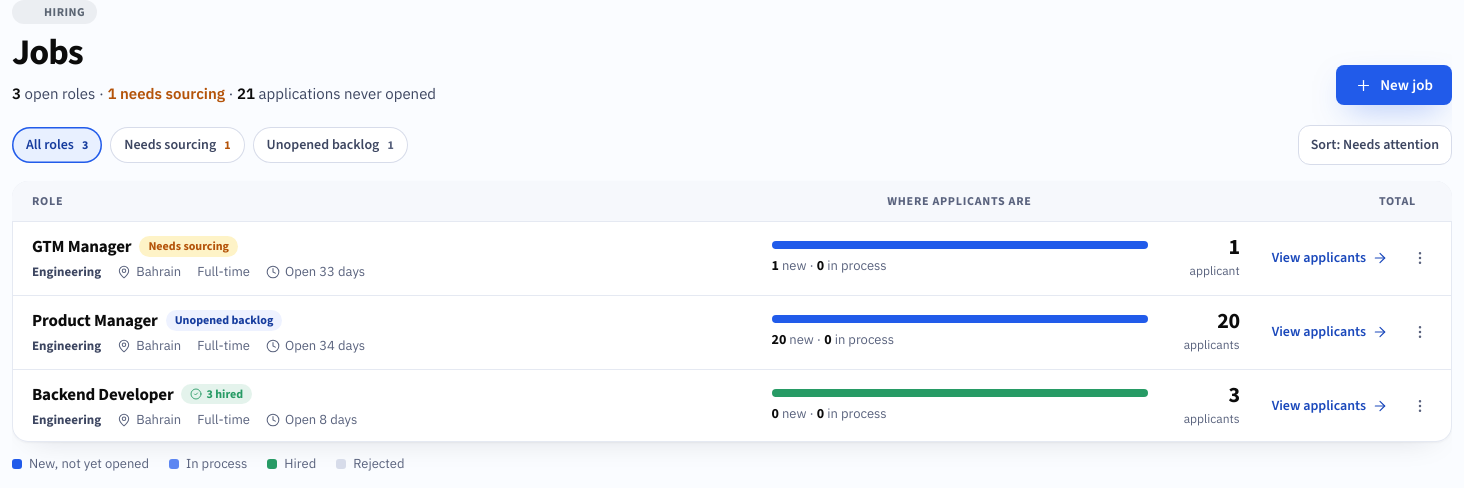
Test: JobsView › narrows to exactly what a filter chip counted
What coordinates should you click on to do the following:
click the button "Needs sourcing 1"
I would click on:
 (177, 145)
Its box is [110,127,245,163].
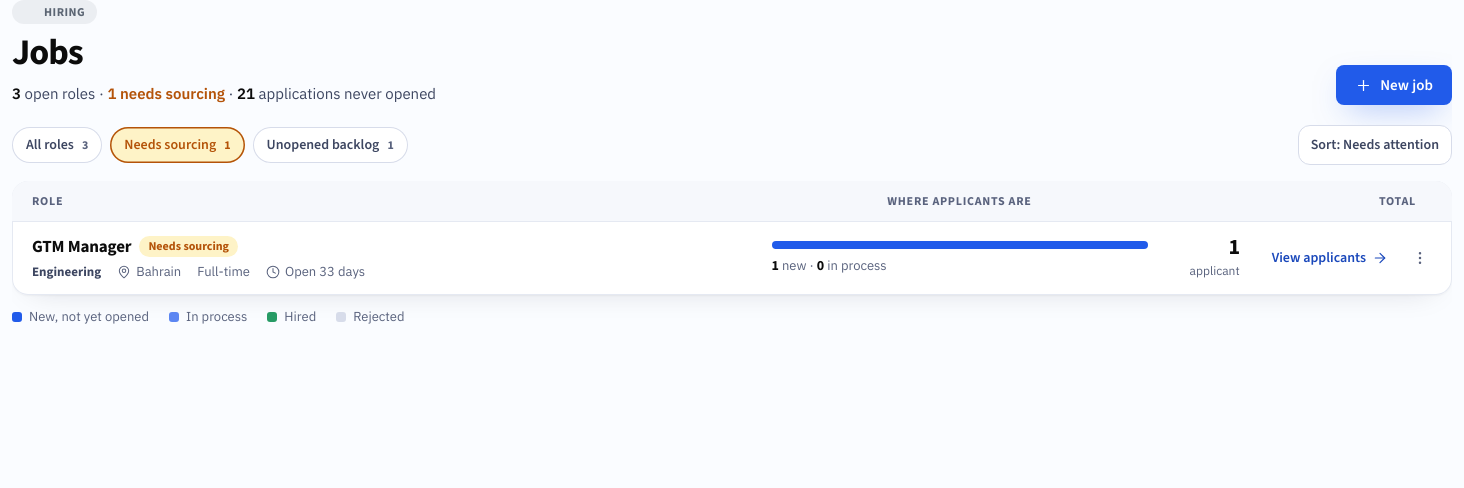
Expected: the heading "GTM Manager" is shown, [32,236,131,257]
Expected: the button "Product Manager" is gone
